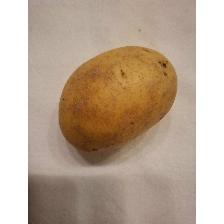Kartoffel: (57, 42, 179, 154)
